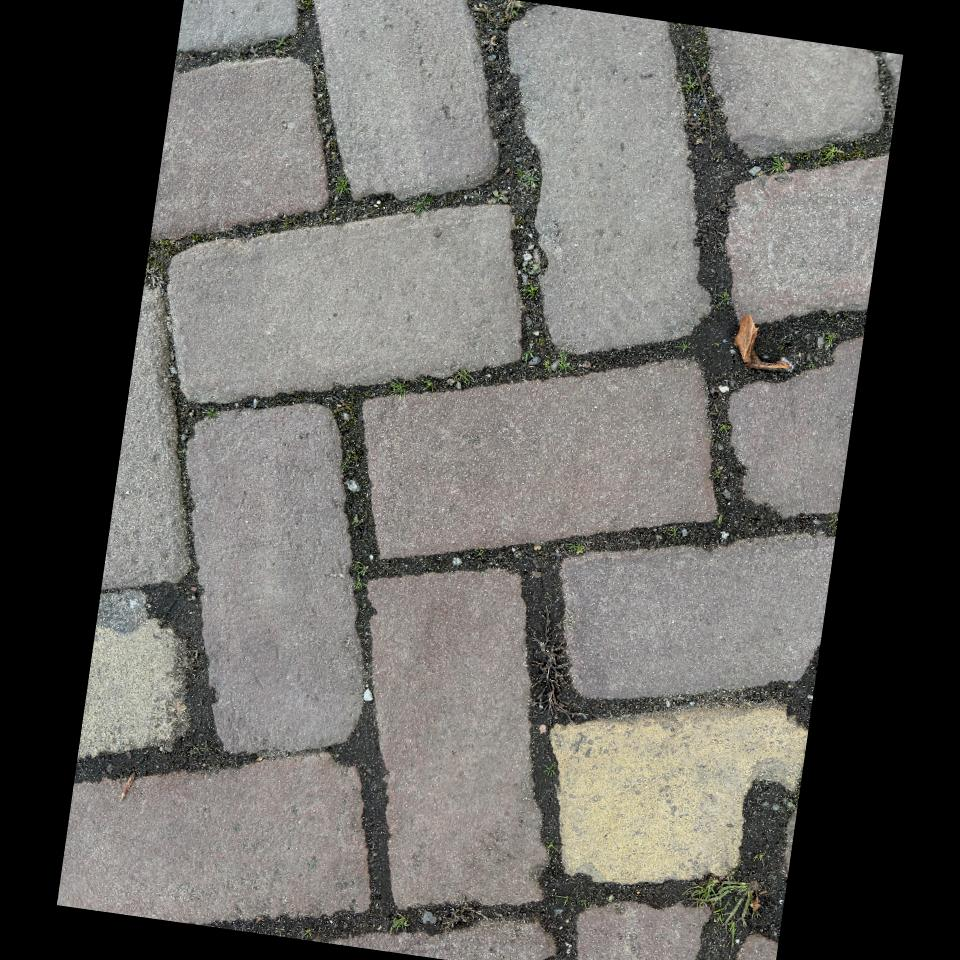weed: (681, 880, 757, 946), (352, 561, 369, 590), (411, 193, 433, 215), (516, 168, 537, 191), (451, 368, 472, 389), (822, 143, 843, 163), (769, 156, 790, 174), (271, 37, 290, 56), (390, 916, 410, 934), (334, 175, 349, 198), (681, 75, 699, 94), (342, 452, 359, 472), (522, 281, 539, 300), (715, 288, 730, 309), (487, 190, 509, 204), (390, 379, 407, 397), (558, 351, 572, 372), (569, 539, 586, 556), (665, 525, 682, 540), (675, 338, 691, 353), (204, 406, 219, 420), (824, 332, 836, 349), (299, 928, 313, 941), (711, 466, 723, 481), (546, 841, 557, 857), (421, 378, 434, 391), (544, 763, 556, 777), (524, 348, 533, 363), (718, 422, 730, 433), (472, 549, 484, 559), (352, 514, 362, 525), (544, 360, 552, 371), (684, 530, 687, 536)
